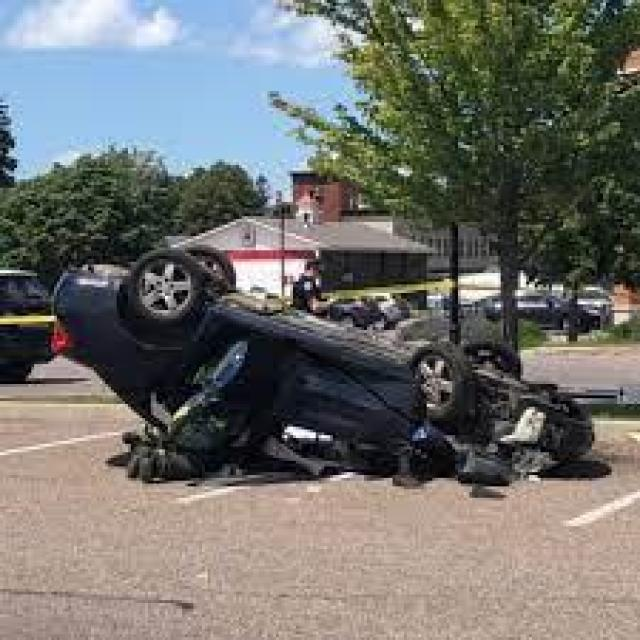severe: (50, 240, 596, 497)
